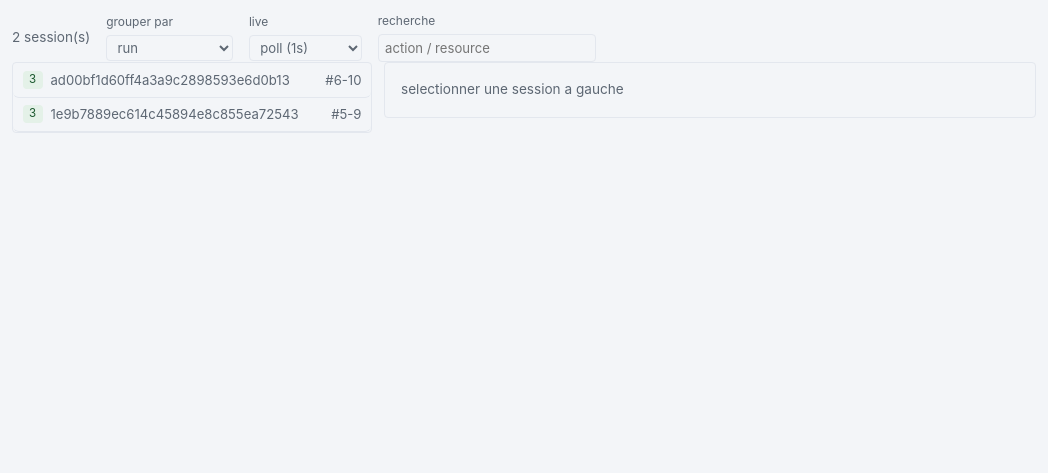
Test: SessionsPanel (R16 contract, coalesced delta) › expands an exchange to show the req<->resp pair on demand
What coordinates should you click on to do the following:
click the button "3 ad00bf1d60ff4a3a9c2898593e6d0b13 #6-10"
I would click on:
 (192, 81)
Its box is [13,64,371,98].
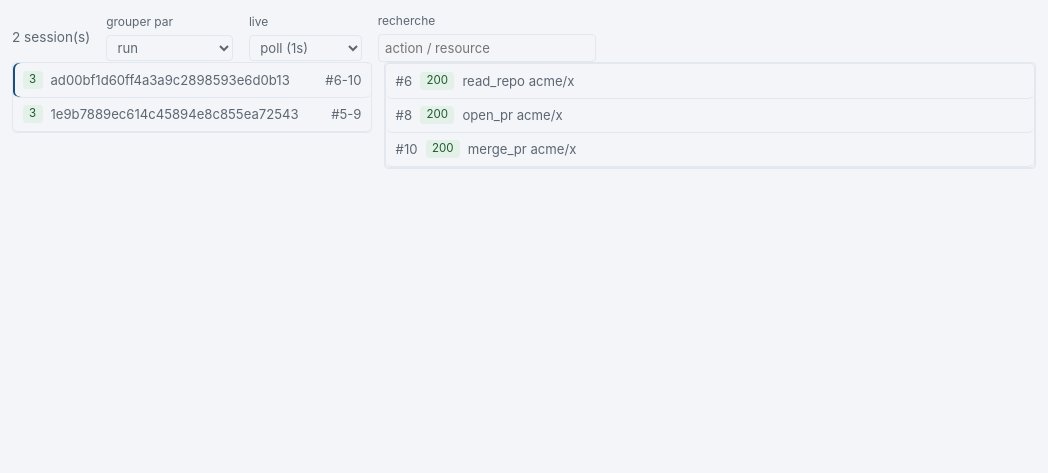
What coordinates should you click on to do the following:
click the button "#6 200 read_repo acme/x"
I would click on:
 (437, 81)
Its box is [386,64,1034,99].
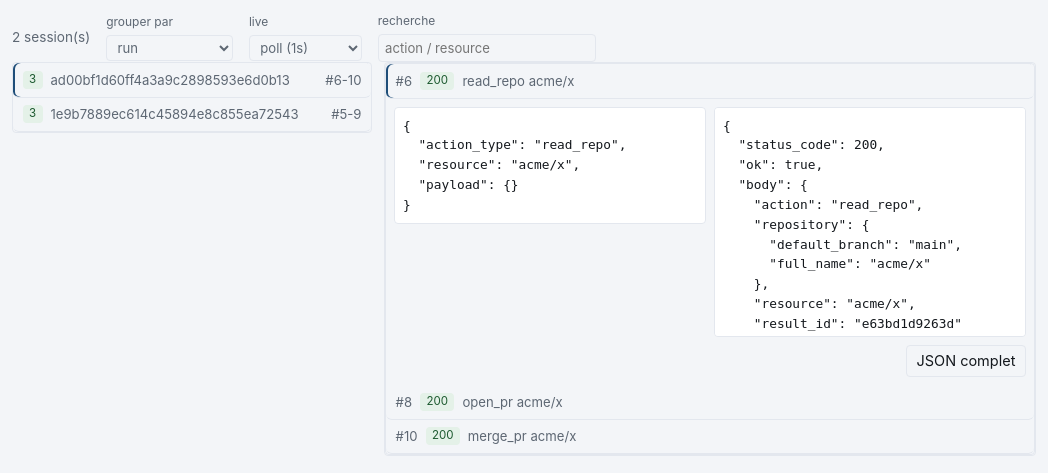
expect the text with test id "exchange-intent" is shown: met, box [394,107,706,224]
expect the text with test id "exchange-response" is shown: met, box [714,107,1026,337]
